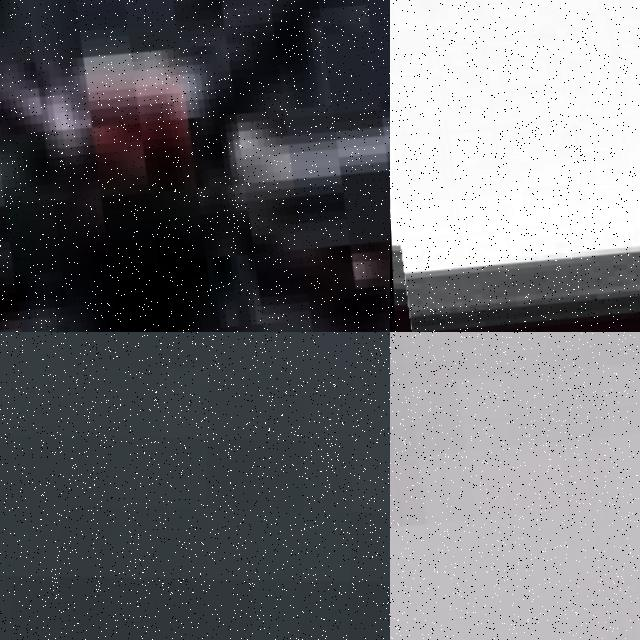0: (0, 0, 390, 332), (390, 332, 640, 640)
drone: (390, 0, 640, 332)
